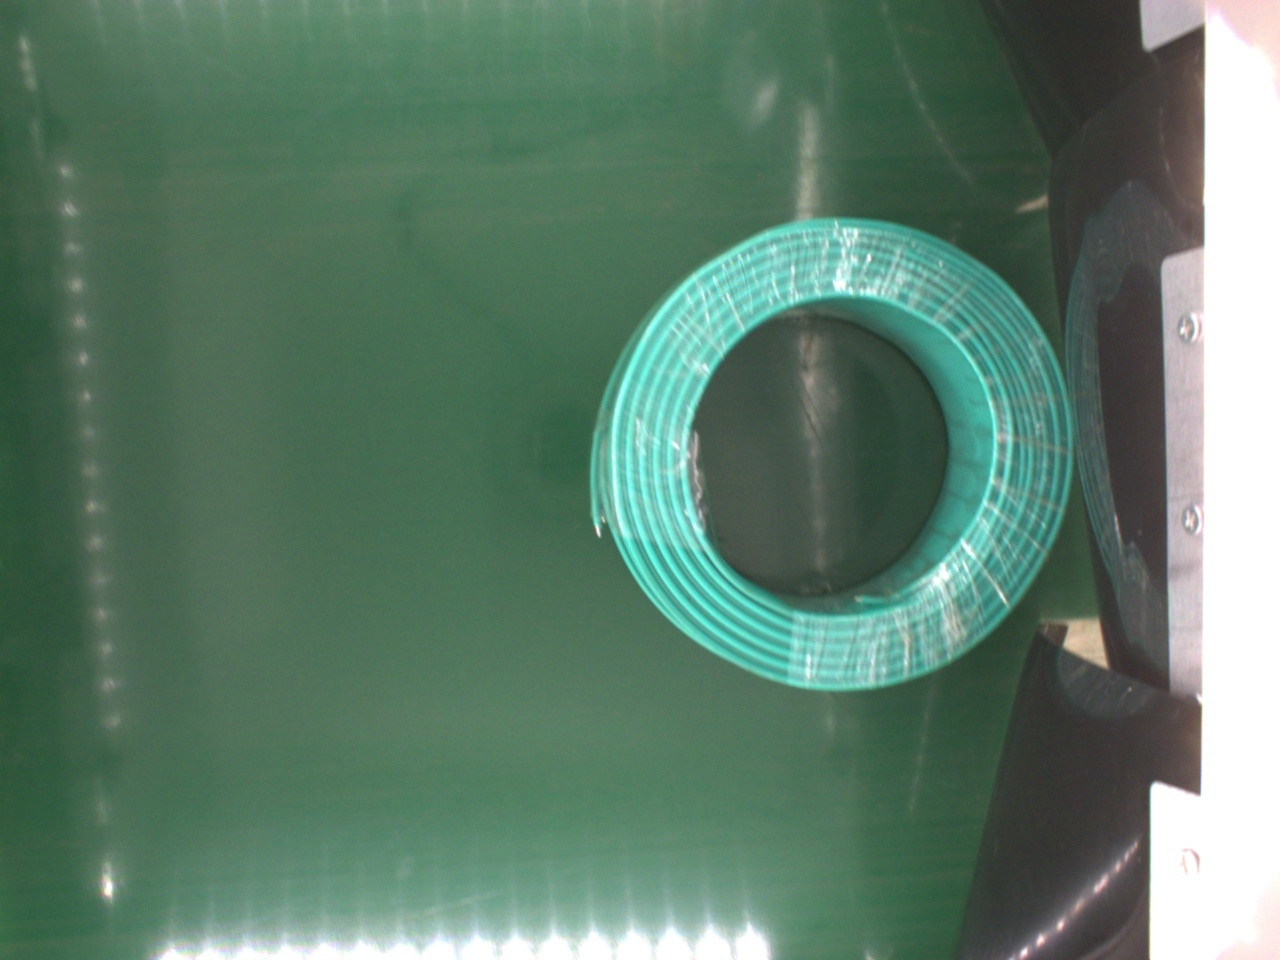green: (597, 217, 1069, 696)
